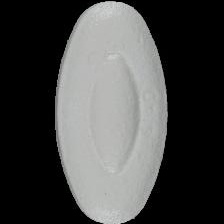0007-4140: (0, 0, 224, 224)
